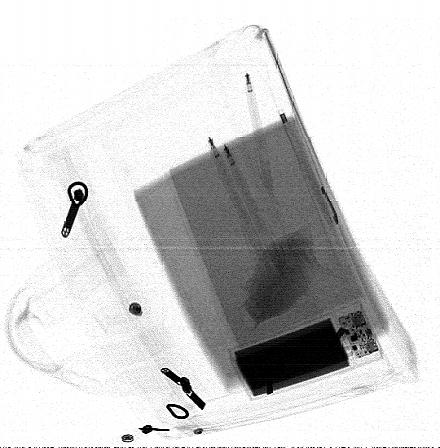Powerbank: (227, 301, 385, 402)
